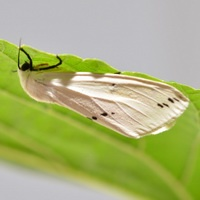insect: (18, 43, 188, 137)
